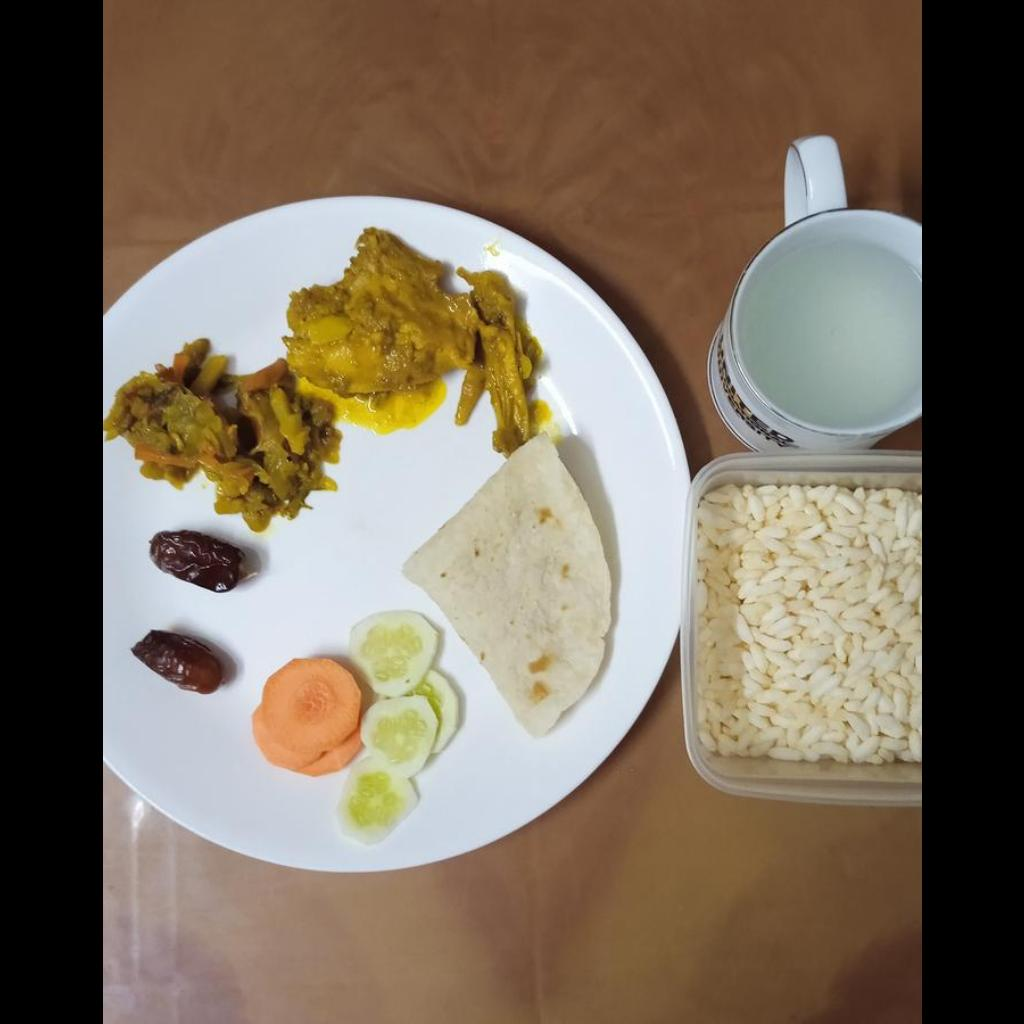carrot: (249, 658, 359, 777)
chicken: (279, 226, 526, 452)
cucumber: (332, 615, 465, 845)
dates: (130, 629, 226, 694), (149, 530, 245, 592)
puffed-rice: (686, 480, 920, 762)
ruti: (398, 429, 611, 736)
vegetable: (102, 341, 326, 517)
